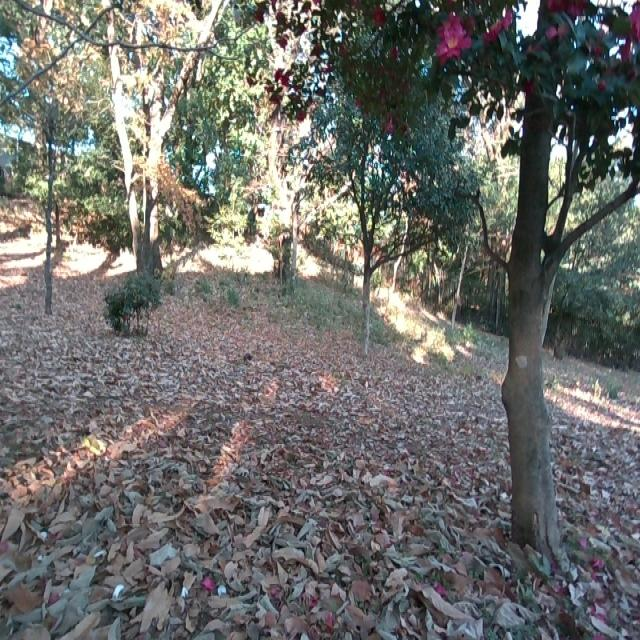bush: (98, 261, 177, 338)
tree: (431, 0, 640, 585), (291, 0, 469, 357), (93, 3, 203, 281), (28, 100, 66, 319)
